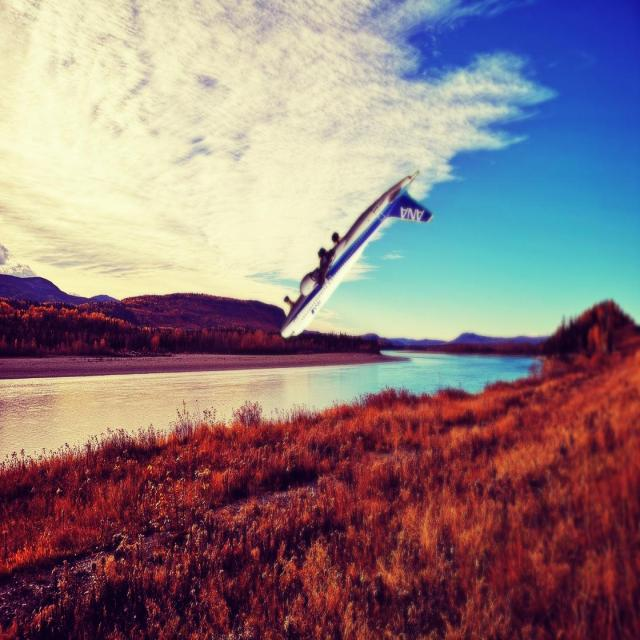airplane: (278, 168, 434, 340)
